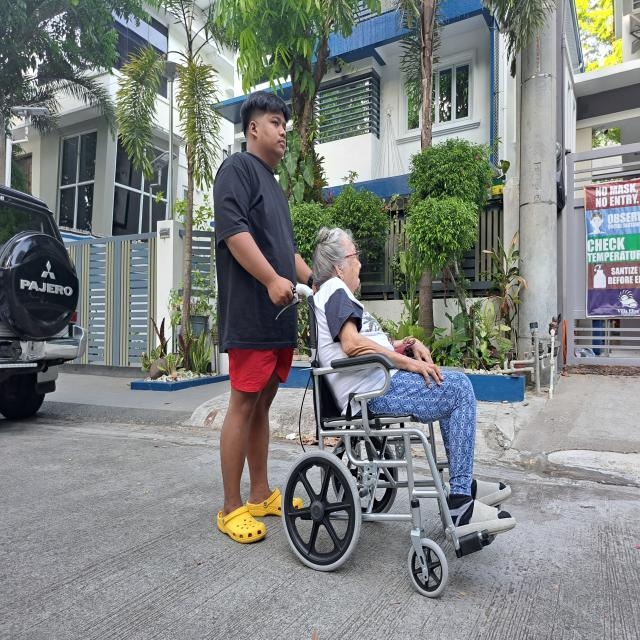wheelchairs: (272, 278, 503, 602)
